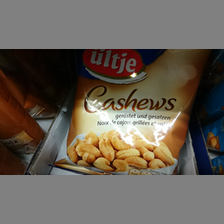nuts: (47, 50, 209, 174)
